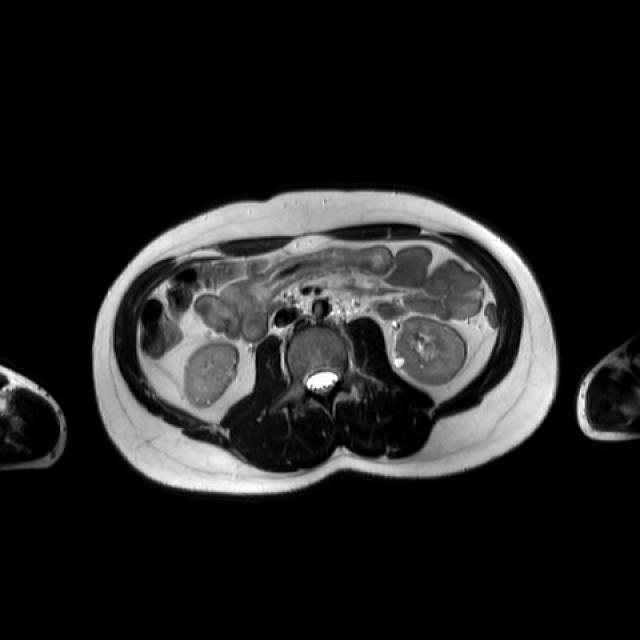sag: (185, 339, 240, 407)
sol: (395, 316, 470, 385)
